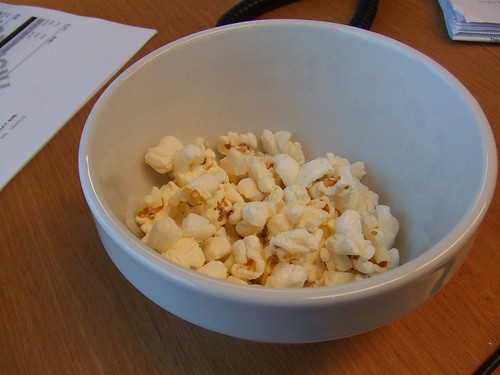corn: (134, 126, 402, 290)
